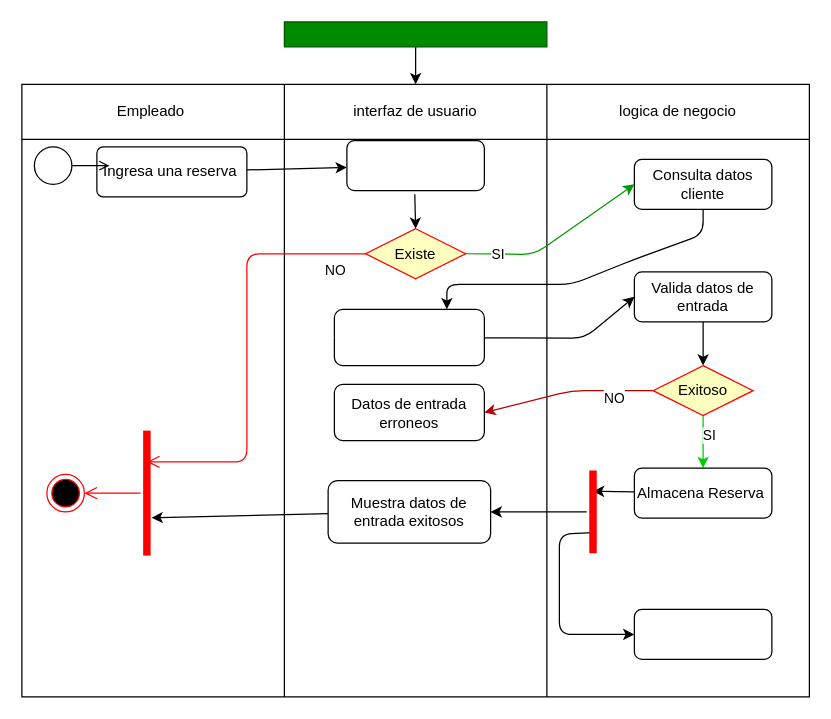
Some shapes in this 831 by 719 pixel diagram are drawn without their labels. Each missing label, with the centre of its shape:
"Autenticacion cliente" belongs at pixel 415 165.
"Captura datos de entrada" belongs at pixel 408 337.
"envia correo de confirmacion Cliente" belongs at pixel 702 633.
"MUESTRA y REGISTRA RECERVA" belongs at pixel 415 34.
